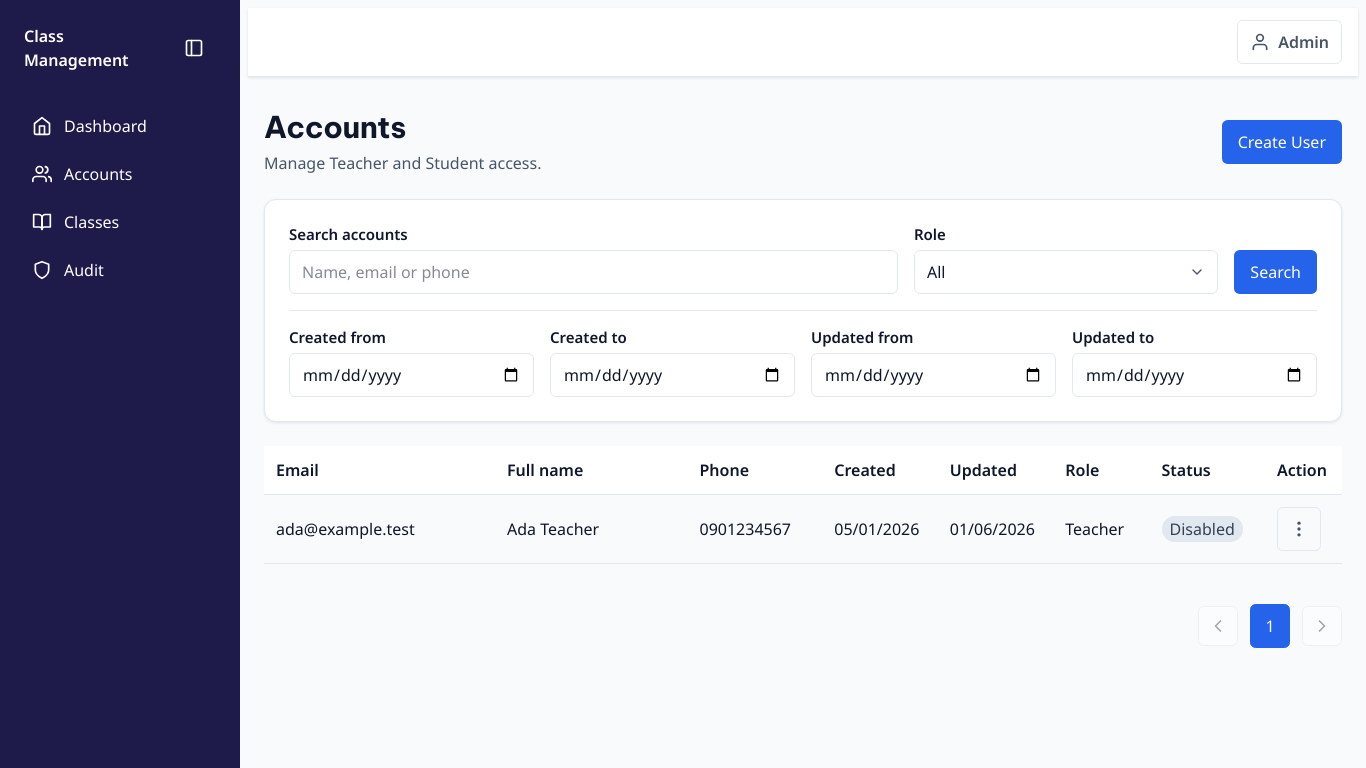
Test case: Admin accounts › removes a deleted account after refreshing the same list
Expected: the text "ada@example.test" is shown, top-left (276, 518), bottom-right (415, 540)
Step 1. Click the button named "Actions for ada@example.test" → click(1299, 529), box top-left (1277, 507), bottom-right (1321, 551)
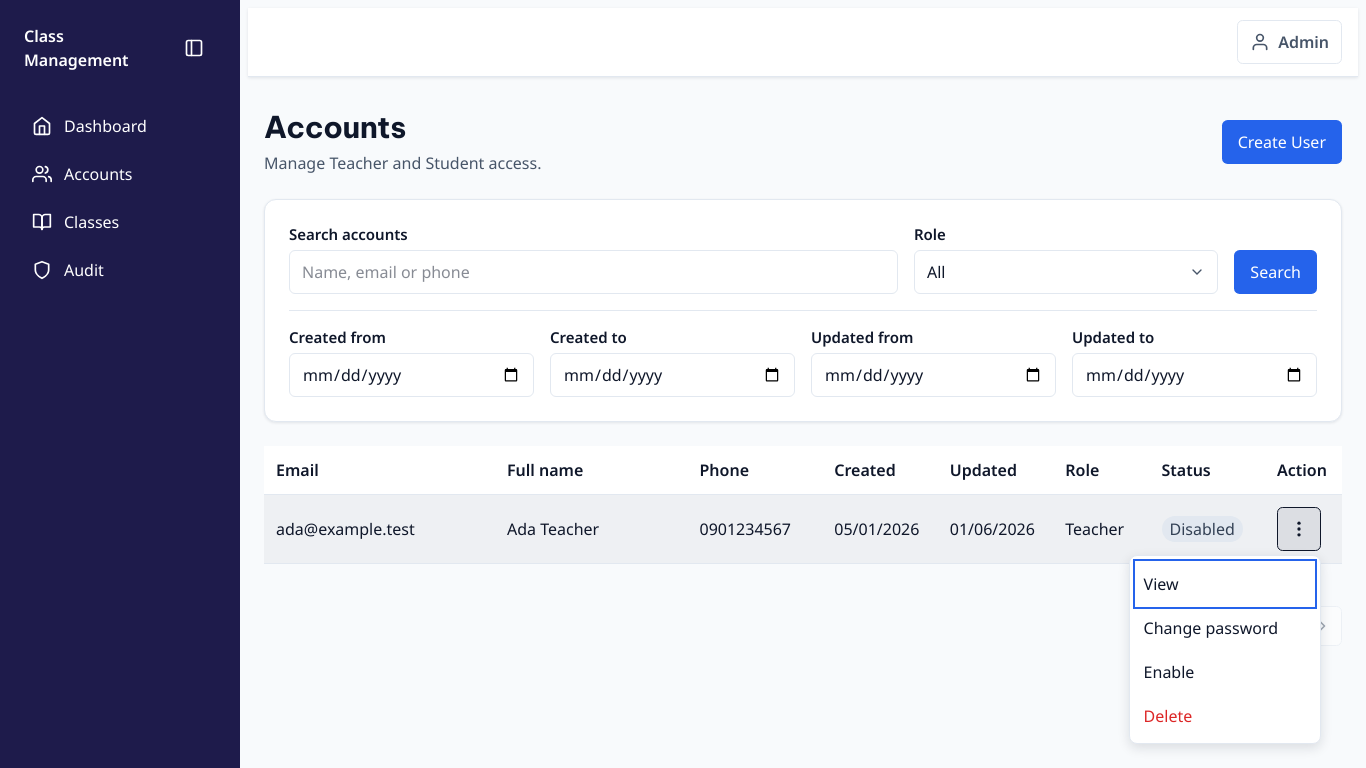
Step 2. Click the menu item with aria-label "Delete ada@example.test" → click(1225, 716), box top-left (1136, 694), bottom-right (1314, 738)
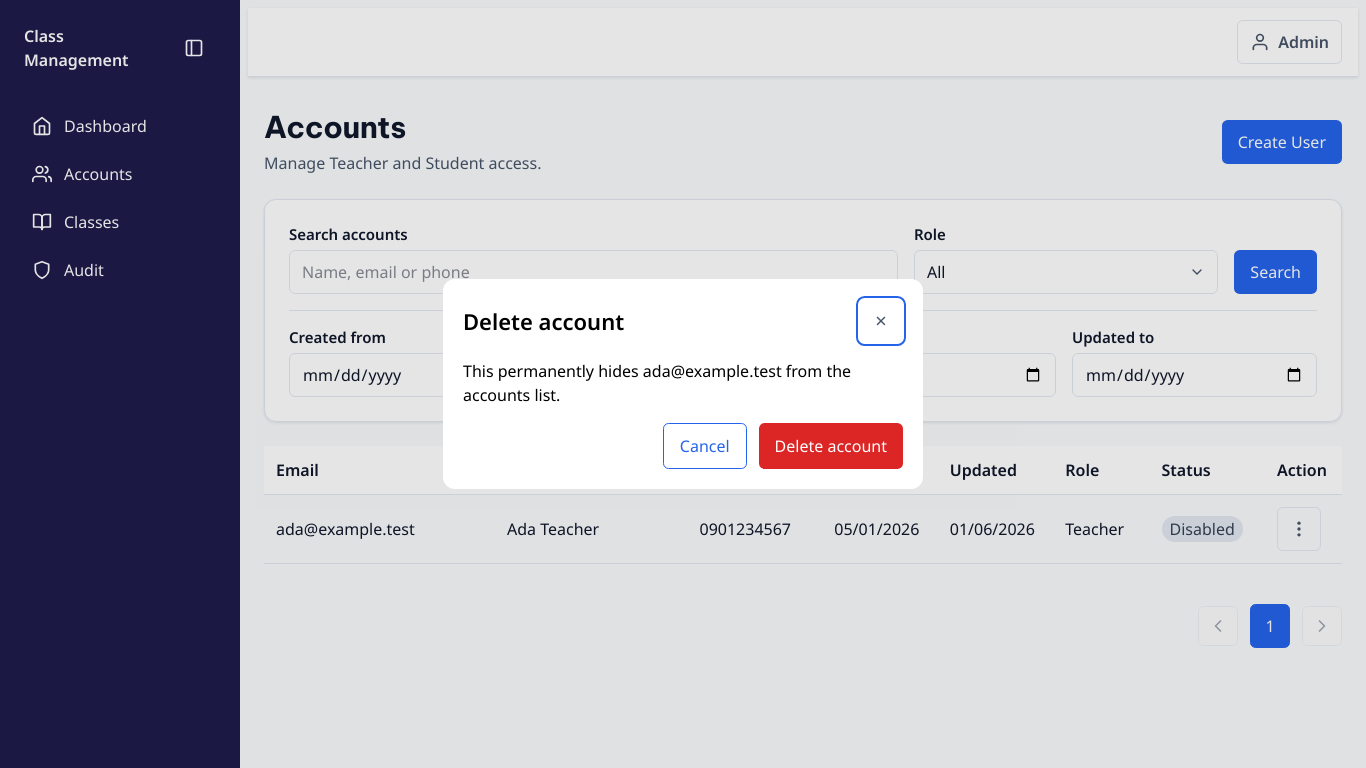
Step 3. Click the button "Delete account" → click(831, 446), box top-left (759, 423), bottom-right (903, 469)
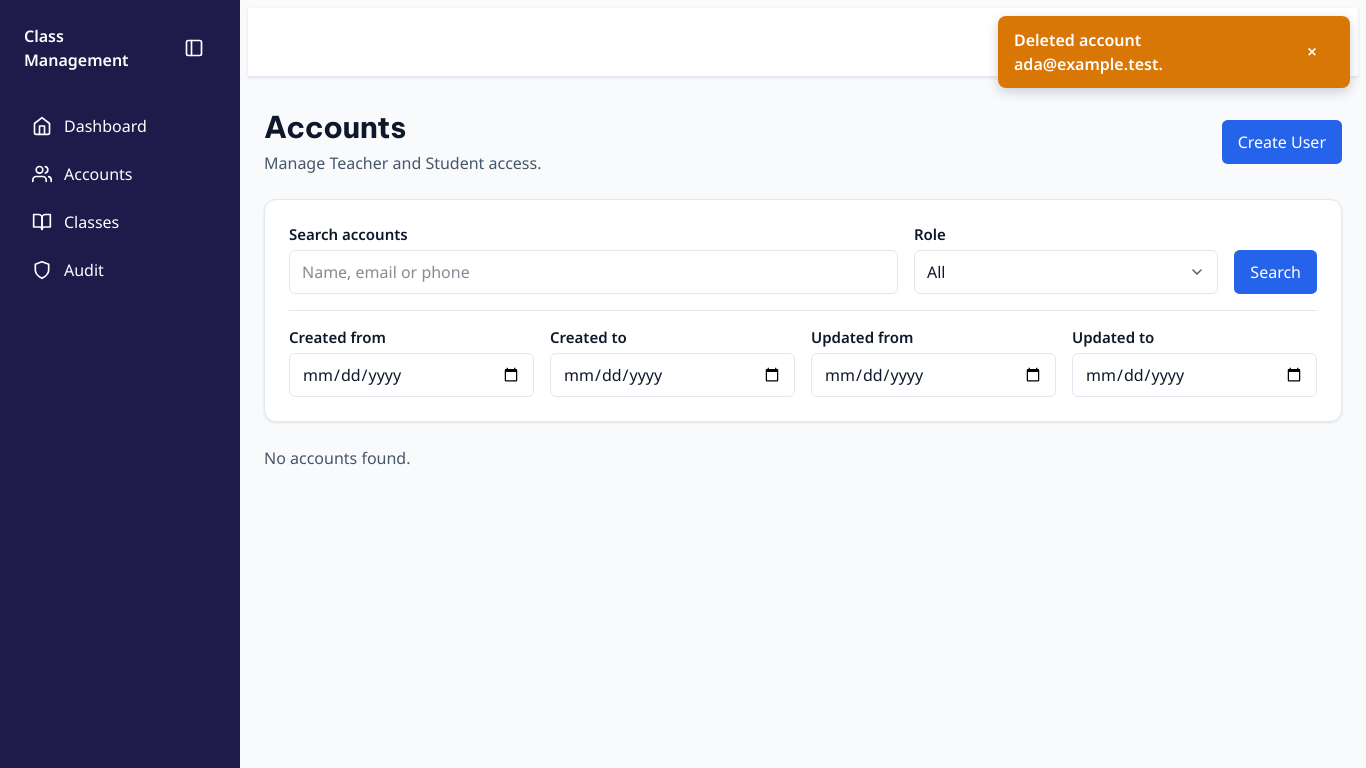
Expected: the text "No accounts found." is shown, top-left (264, 447), bottom-right (410, 469)
